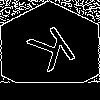K: (25, 25, 85, 81)
